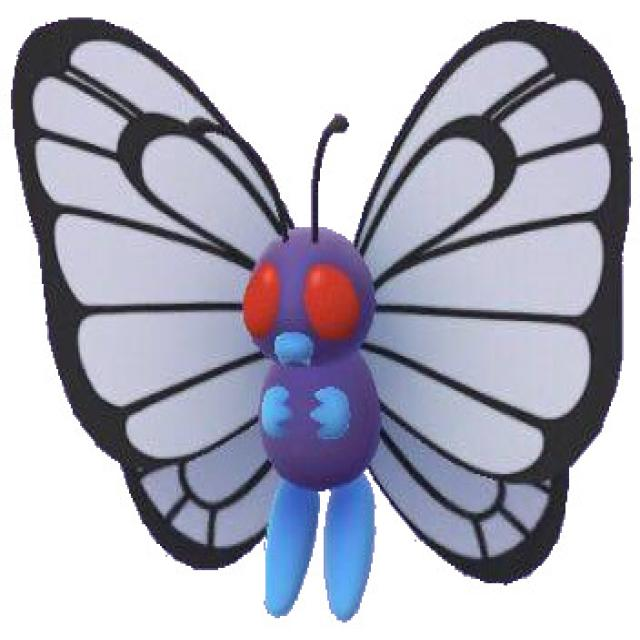Butterfree: (119, 104, 518, 596)
